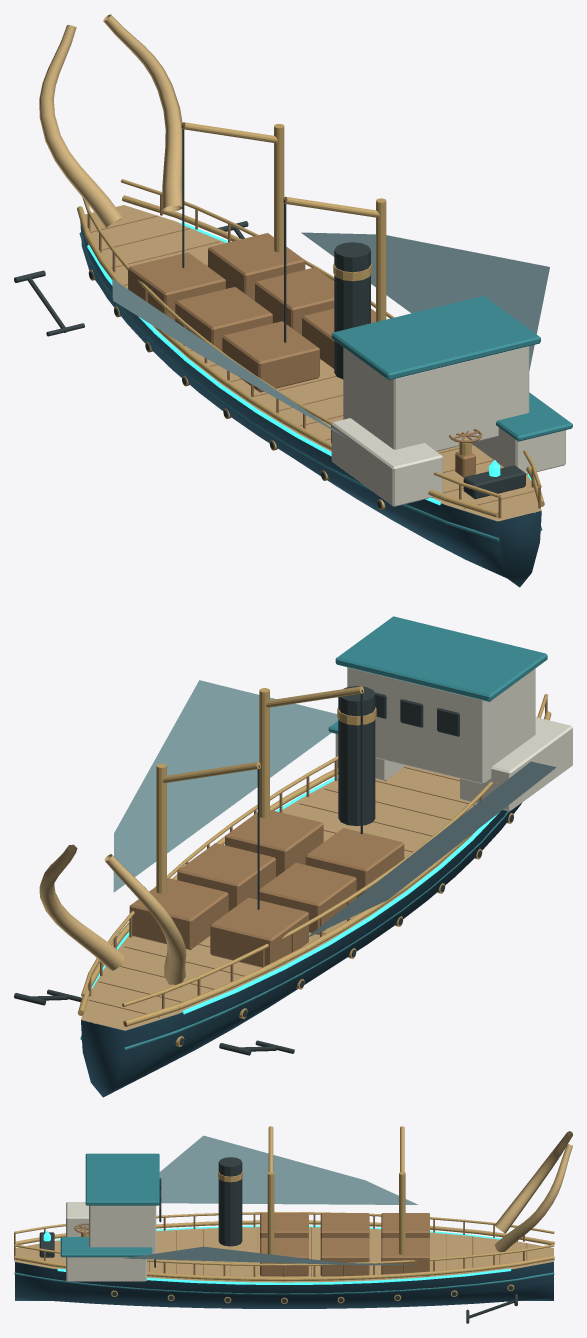
File: ship_freighter.glb
3 views of the same model, one above another, from view 1: azimuth 30°, elevation 25°; view 2: azimuth 150°, elevation 25°; view 3: azimuth 270°, elevation 25° (orthographic). The views are drawn at different scales.
Parts seen in each view (by area): view 1: ship_freighter; view 2: ship_freighter; view 3: ship_freighter.
Part boxes in pixels (x1=…): ship_freighter: x1=14, y1=14, x2=572, y2=587; ship_freighter: x1=14, y1=616, x2=572, y2=1097; ship_freighter: x1=14, y1=1126, x2=572, y2=1323.
Bounding box in the file's own units: 7.8 × 5.37 × 16.59.
